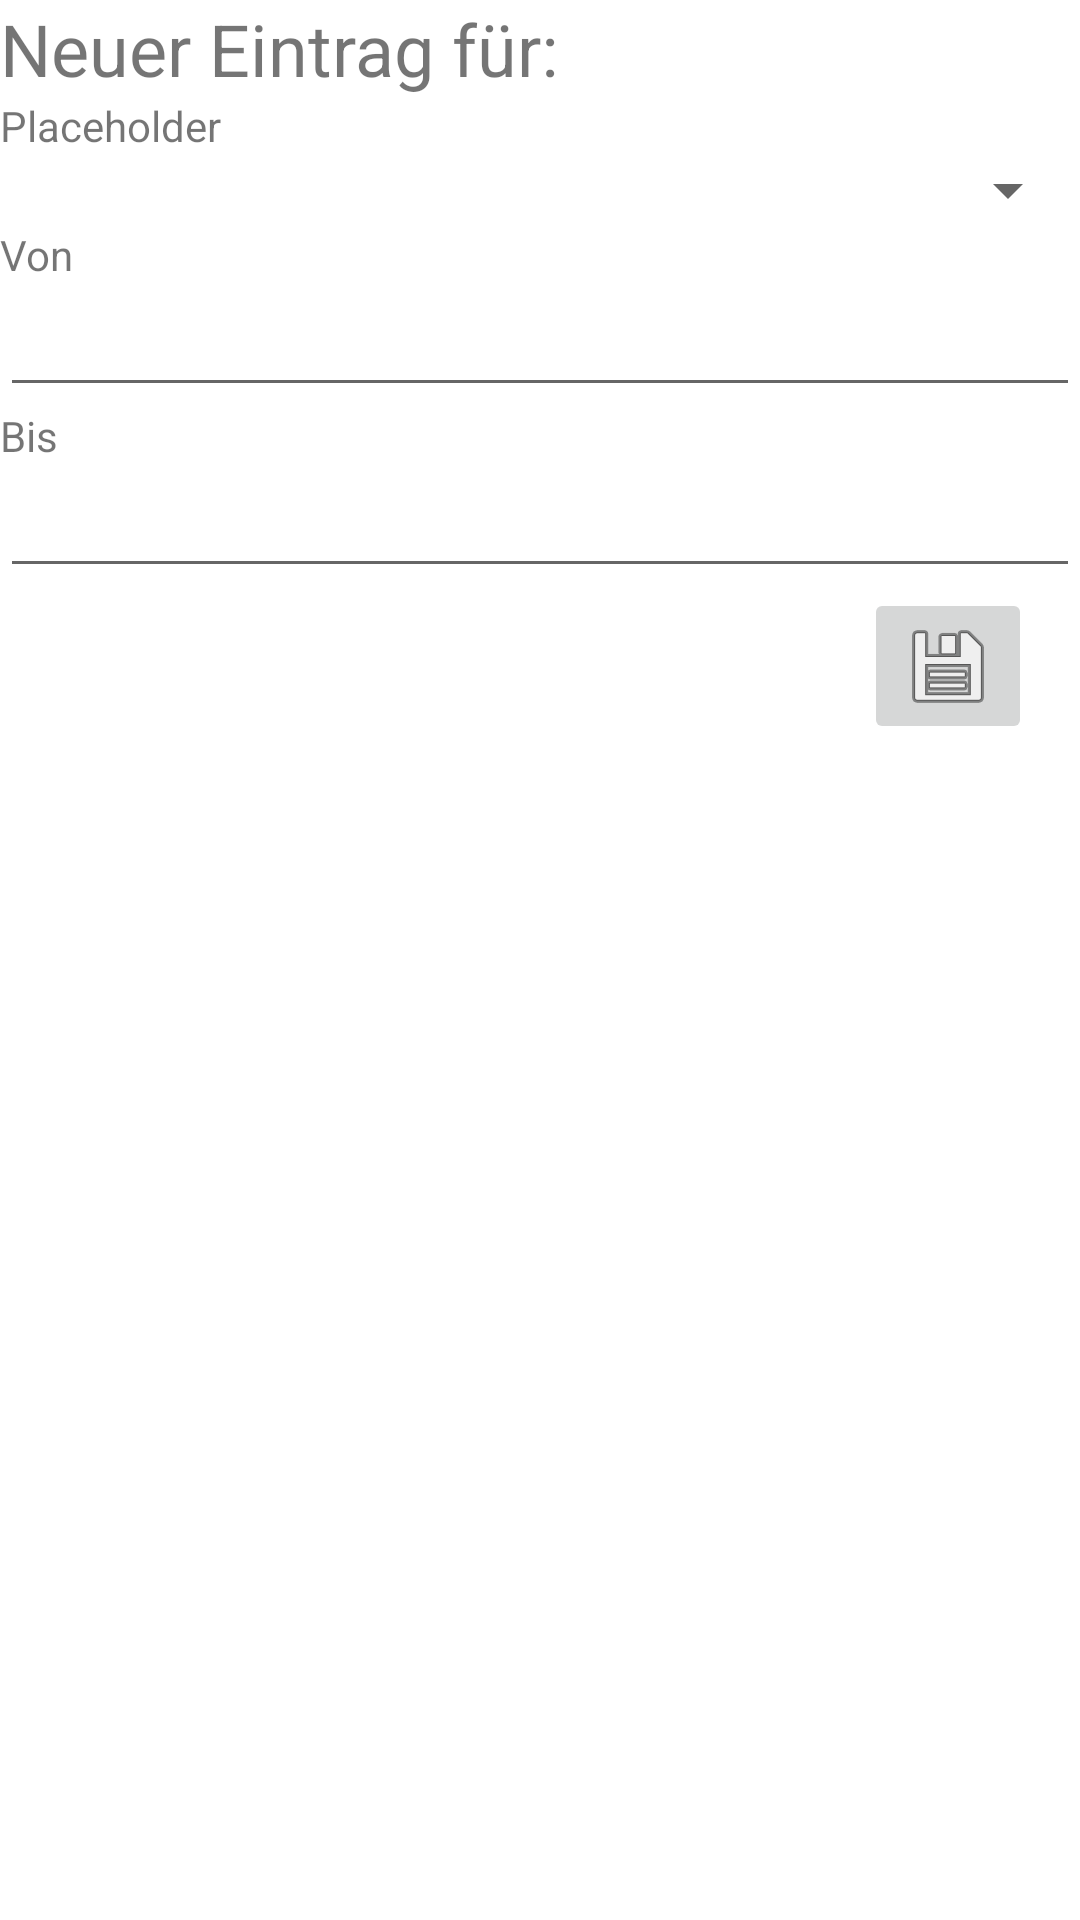

Icons on this 1080px x 1920px Android screen, each with the point to tap as (x,y):
save: (948,666)
